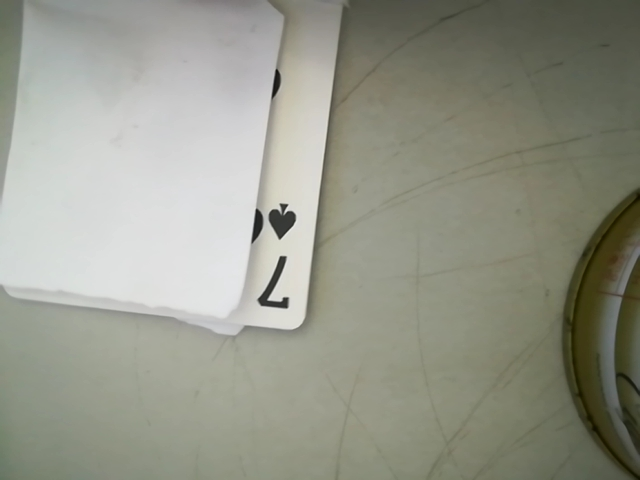ht 7: (242, 189, 308, 323)
